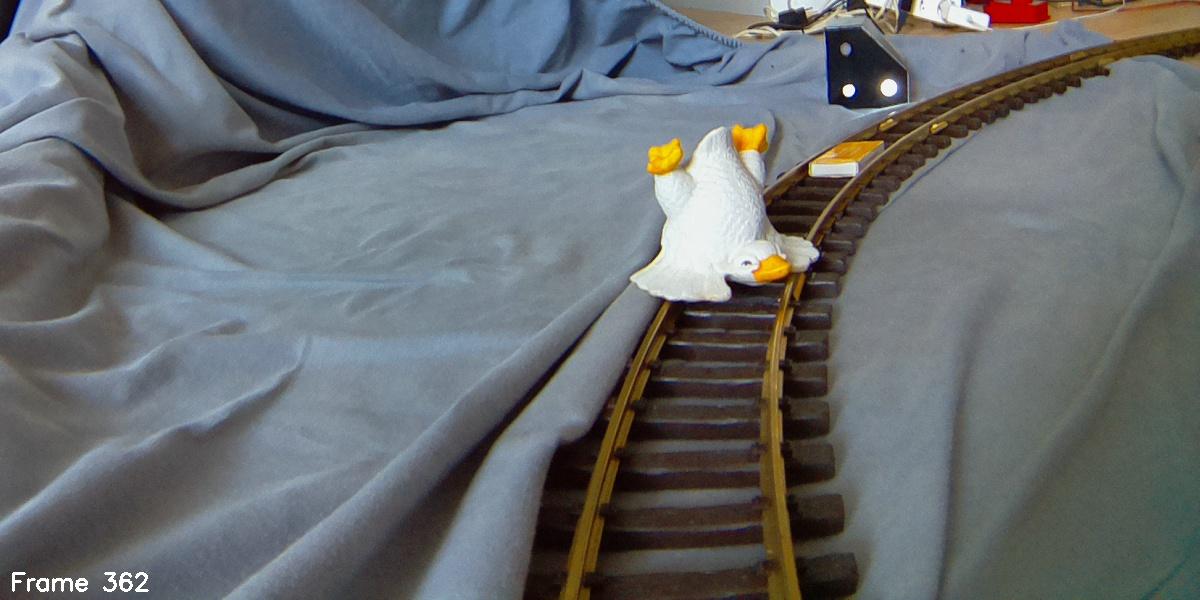Ente: (630, 122, 823, 305)
Halt: (822, 13, 910, 110)
